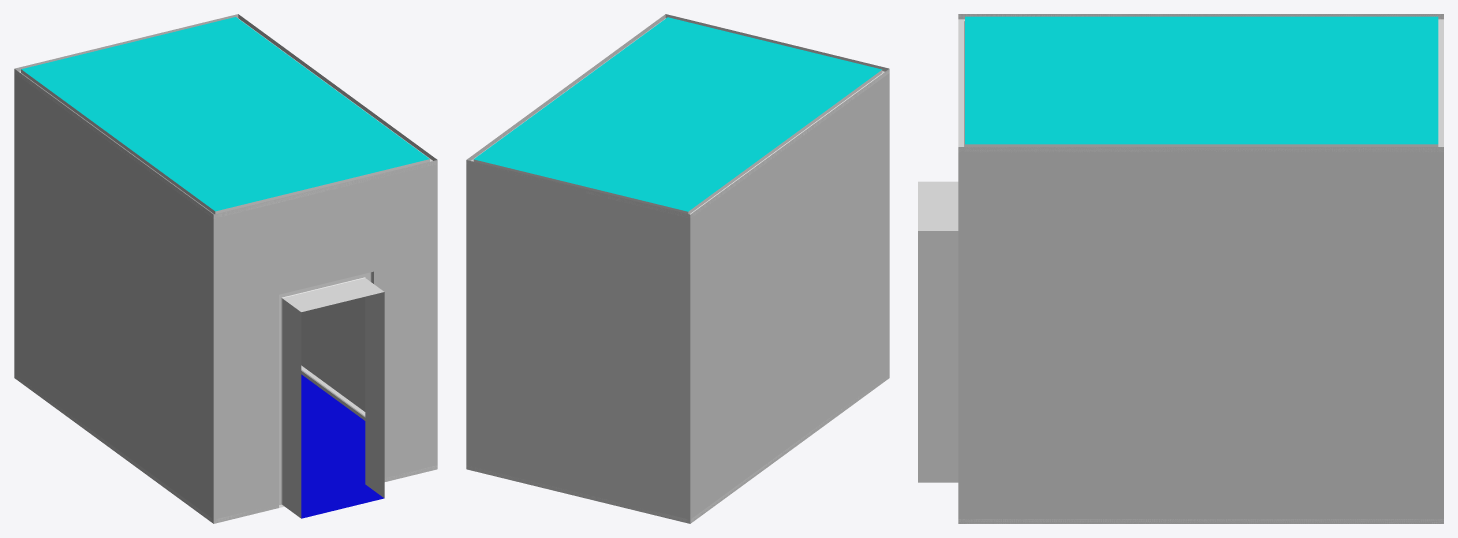
Rendered from AsylumCell.fbx.
3 renders of one model, left to right at view 1: azimuth 30°, elevation 25°; view 2: azimuth 150°, elevation 25°; view 3: azimuth 270°, elevation 25°, orthographic. The views are drawn at different scales.
Visible parts, largest first — view 1: AsylumCell; view 2: AsylumCell; view 3: AsylumCell.
Boxes of the visible parts, box(x1,y1,x2,y2) form: AsylumCell: box(14, 14, 437, 523); AsylumCell: box(466, 14, 889, 523); AsylumCell: box(918, 14, 1443, 523).
Size of the model in its own units: 232 by 306 by 387.
